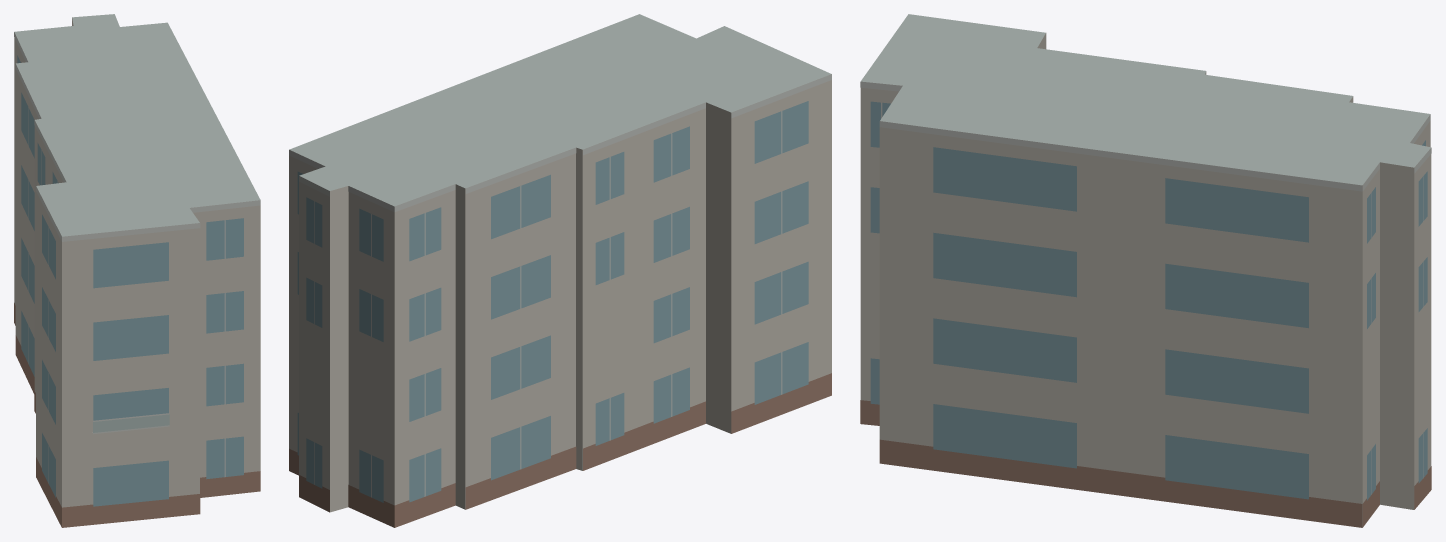
The model's file is survey-upis-32624791.glb.
3 views of the same model, side by side, from view 1: azimuth 30°, elevation 25°; view 2: azimuth 150°, elevation 25°; view 3: azimuth 270°, elevation 25° (orthographic). The views are drawn at different scales.
Parts seen in each view (by area): view 1: survey-upis-32624791.tmp; view 2: survey-upis-32624791.tmp; view 3: survey-upis-32624791.tmp.
Boxes of the visible parts, x1,y1,x2,y2 form: survey-upis-32624791.tmp: (14,14,260,527); survey-upis-32624791.tmp: (289,14,831,527); survey-upis-32624791.tmp: (860,14,1431,527).
Size of the model in its own units: 14.5 by 13.5 by 20.41.
